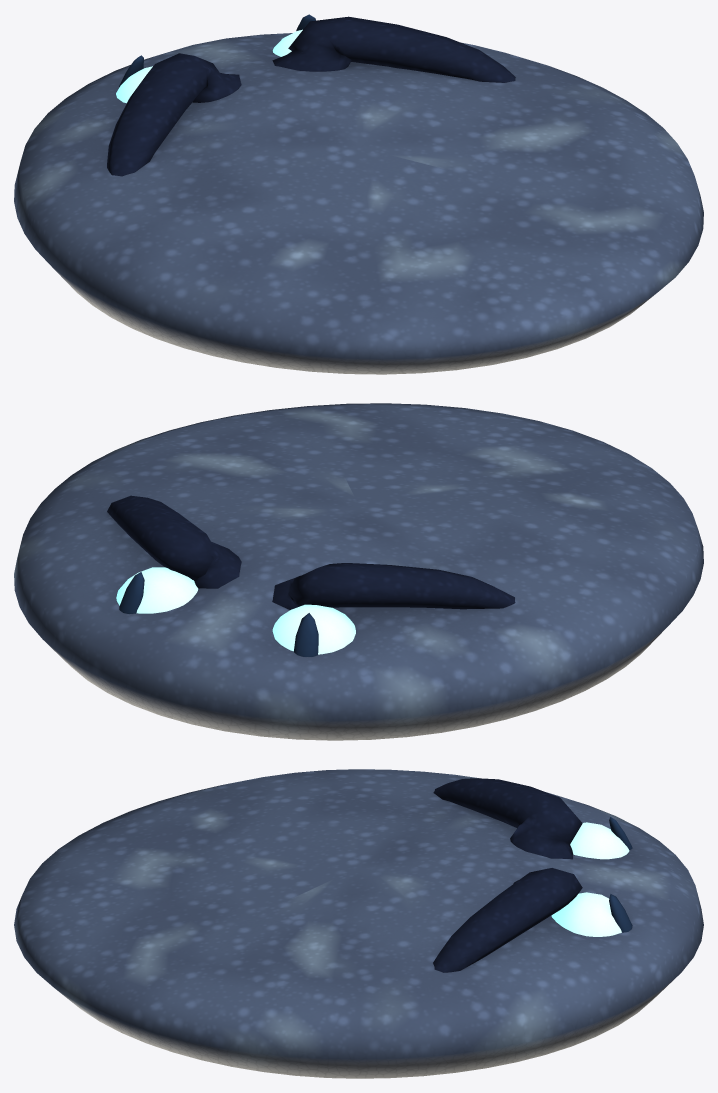
File: creature_deep_lurker_body.glb
3 renders of one model, top to bottom at view 1: azimuth 30°, elevation 25°; view 2: azimuth 150°, elevation 25°; view 3: azimuth 270°, elevation 25°, orthographic. The views are drawn at different scales.
Visible parts, largest first — view 1: Body, Brow; view 2: Body, Brow, Eye_L, Eye_R, Pupil_L, Pupil_R; view 3: Body, Brow, Eye_R, Eye_L, Pupil_R.
Boxes of the visible parts, left/top/right/bottom form: Body: left=14, top=33, right=703, bottom=374; Brow: left=107, top=16, right=515, bottom=176; Body: left=14, top=403, right=703, bottom=740; Brow: left=107, top=495, right=515, bottom=609; Eye_L: left=272, top=604, right=355, bottom=654; Eye_R: left=116, top=567, right=198, bottom=613; Pupil_L: left=293, top=613, right=318, bottom=656; Pupil_R: left=119, top=572, right=144, bottom=613; Body: left=14, top=769, right=703, bottom=1078; Brow: left=433, top=778, right=582, bottom=972; Eye_R: left=551, top=892, right=621, bottom=936; Eye_L: left=570, top=822, right=629, bottom=859; Pupil_R: left=609, top=894, right=632, bottom=932.
Bounding box in the file's own units: 0.92 × 0.2155 × 1.
4 materials, 4 textured.
